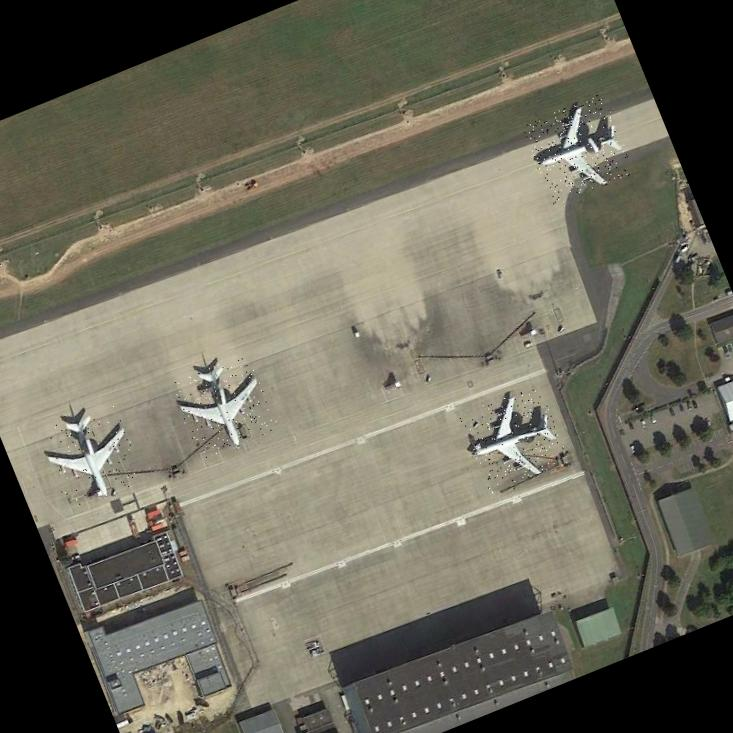A7: (520, 92, 634, 206), (457, 382, 570, 494), (168, 350, 278, 460), (36, 400, 145, 511)
